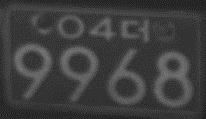0: (57, 13, 85, 39)
4: (89, 15, 117, 42)
6: (106, 47, 147, 106)
8: (152, 49, 194, 109)
9: (57, 44, 100, 102), (12, 41, 53, 99)
더: (119, 18, 151, 43)
